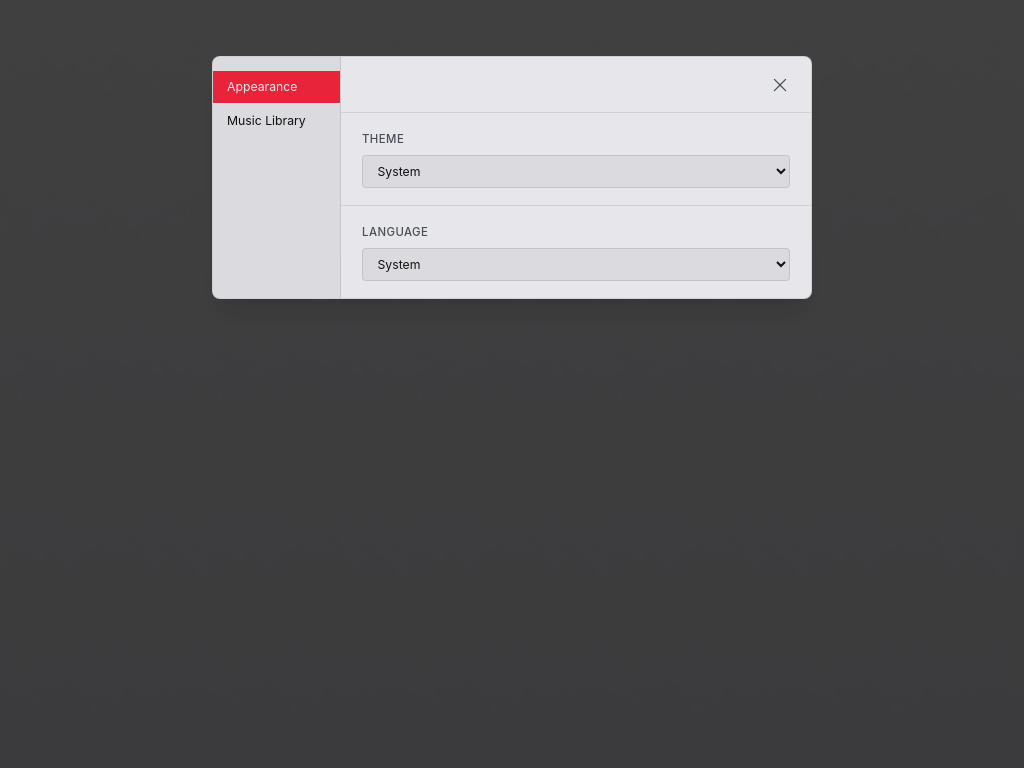
Test: Settings Component › Folder Path Display › shows full path when folderPath is provided
What coordinates should you click on to do the following:
click the button "Music Library"
I would click on:
 (276, 121)
Its box is [213,105,340,138].
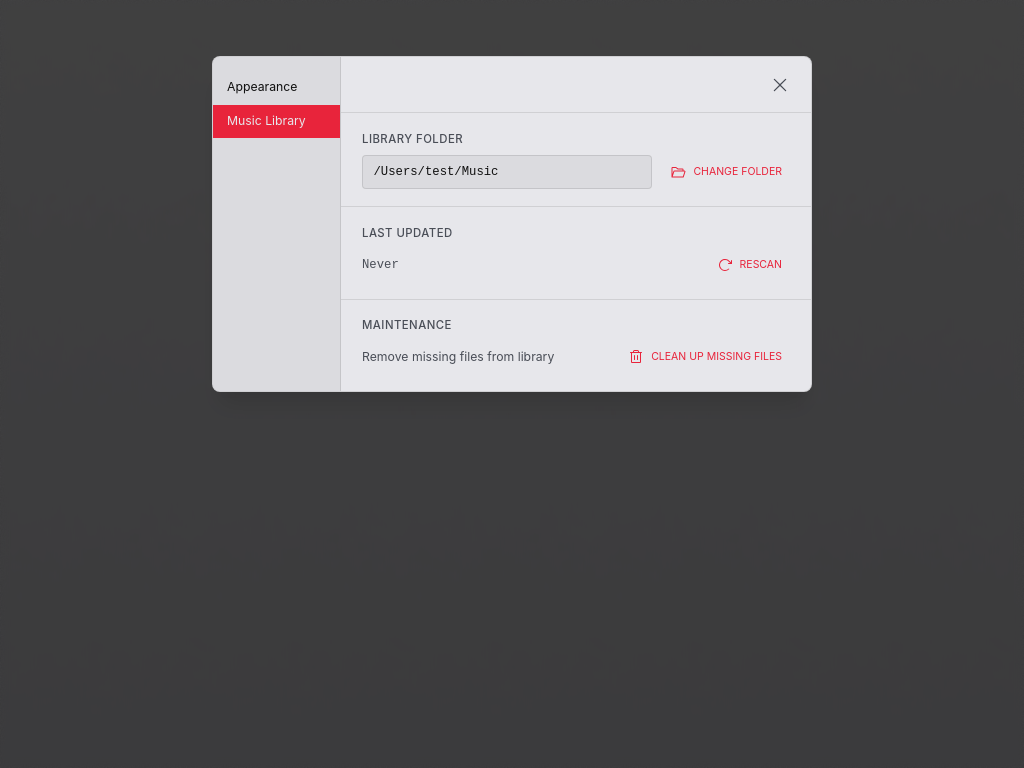
Check: the field showing "/Users/test/Music" is shown, box [362,155,652,189]
